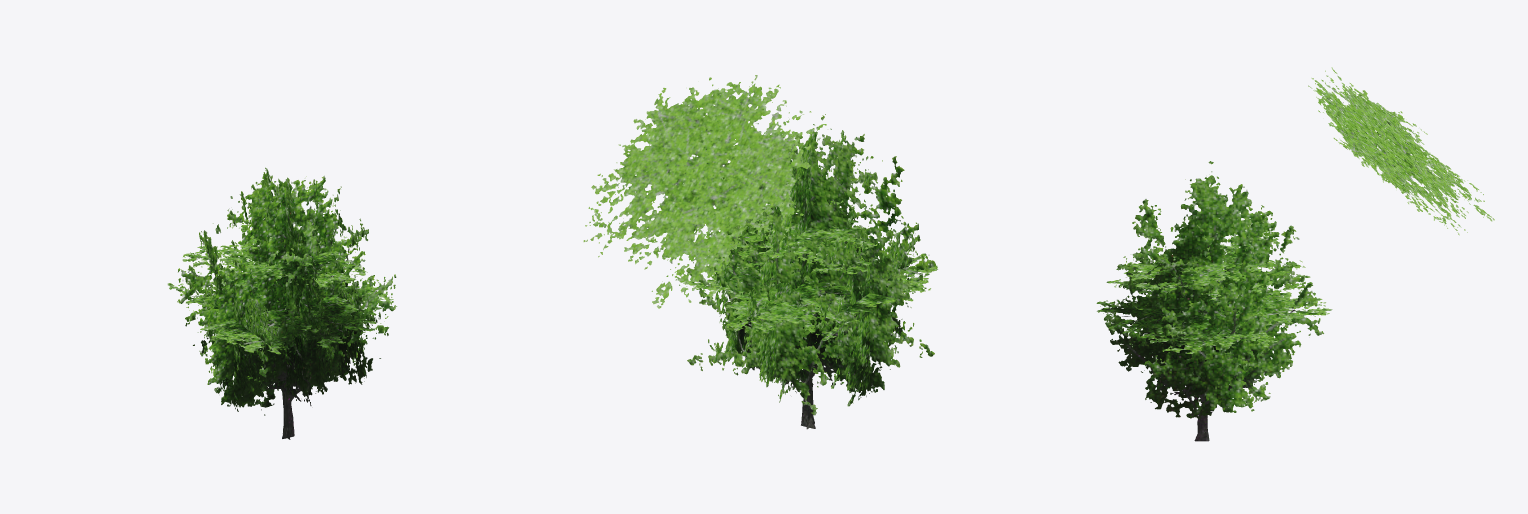
Rendered from tree-impo5D.glb.
The picture shows the model from 3 angles, left to right: view 1: azimuth 30°, elevation 25°; view 2: azimuth 150°, elevation 25°; view 3: azimuth 270°, elevation 25°; orthographic projection. The views are drawn at different scales.
Visible parts, largest first — view 1: Plane.002, Plane.003, Plane, Plane.008, Plane.012, Plane.006, Plane.011, Plane.010; view 2: shadow, Plane.001, Plane.007, Plane, Plane.003, Plane.012, Plane.009, Plane.006, Plane.011; view 3: Plane.004, Plane.013, shadow, Plane, Plane.006, Plane.014.
Part boxes in pixels (x1=…): Plane.002: x1=197, y1=175, x2=375, y2=438; Plane.003: x1=229, y1=167, x2=334, y2=439; Plane: x1=167, y1=261, x2=393, y2=354; Plane.008: x1=247, y1=221, x2=396, y2=415; Plane.012: x1=185, y1=196, x2=278, y2=411; Plane.006: x1=182, y1=223, x2=367, y2=288; Plane.011: x1=306, y1=179, x2=380, y2=384; Plane.010: x1=177, y1=173, x2=307, y2=353; shadow: x1=583, y1=75, x2=826, y2=308; Plane.001: x1=707, y1=133, x2=911, y2=428; Plane.007: x1=686, y1=174, x2=865, y2=415; Plane: x1=683, y1=237, x2=937, y2=340; Plane.003: x1=742, y1=127, x2=858, y2=429; Plane.012: x1=814, y1=156, x2=920, y2=406; Plane.009: x1=792, y1=114, x2=935, y2=357; Plane.006: x1=723, y1=198, x2=877, y2=274; Plane.011: x1=713, y1=138, x2=785, y2=370; Plane.004: x1=1104, y1=178, x2=1323, y2=441; Plane.013: x1=1117, y1=216, x2=1271, y2=418; shadow: x1=1308, y1=67, x2=1494, y2=235; Plane: x1=1096, y1=271, x2=1332, y2=353; Plane.006: x1=1127, y1=229, x2=1305, y2=300; Plane.014: x1=1116, y1=161, x2=1304, y2=299.
Size of the model in its own units: 9.86 by 14.59 by 16.4.
1 material, 1 textured.
